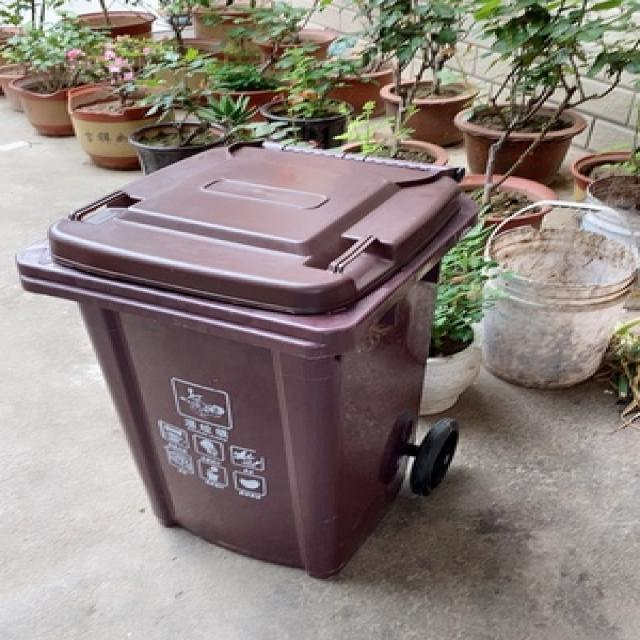ash bin: (21, 136, 478, 581)
